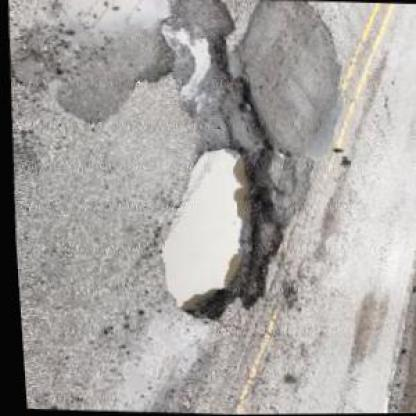pothole: (148, 140, 294, 325)
